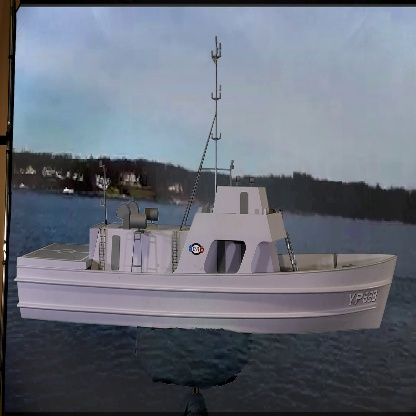YP689: (14, 36, 397, 335)
